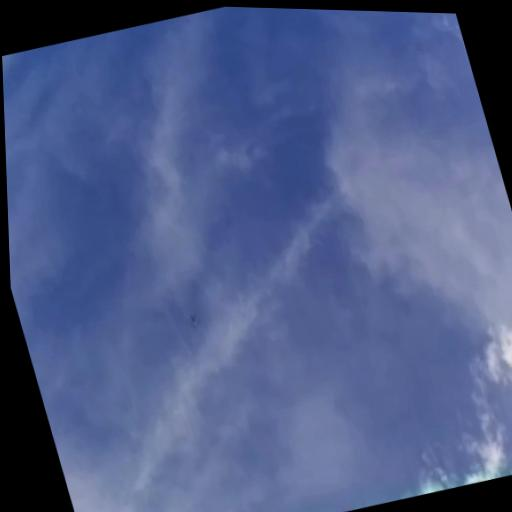drones: (182, 305, 205, 333)
